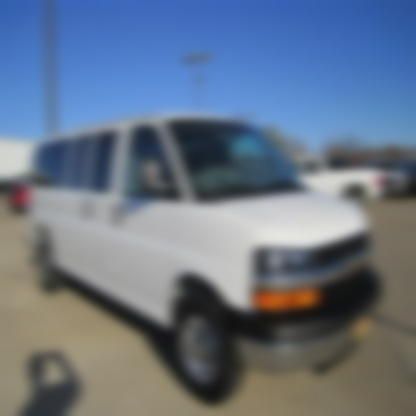Vehicle: (27, 115, 383, 408)
